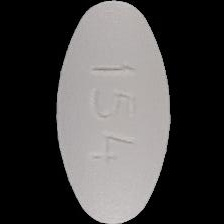68151-0079: (0, 0, 224, 224)
